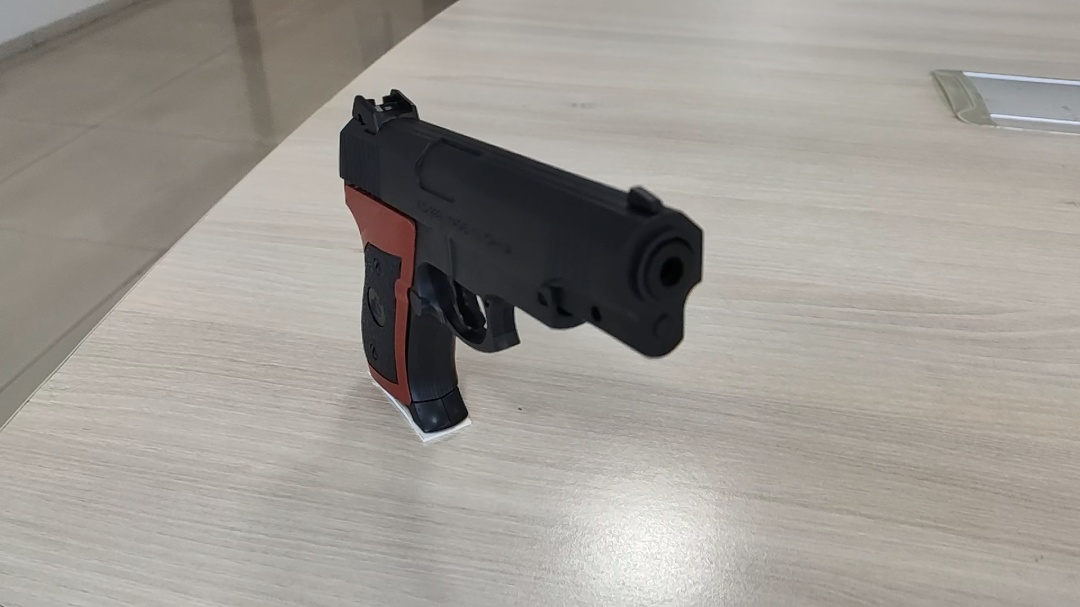gun: (566, 261, 605, 298)
